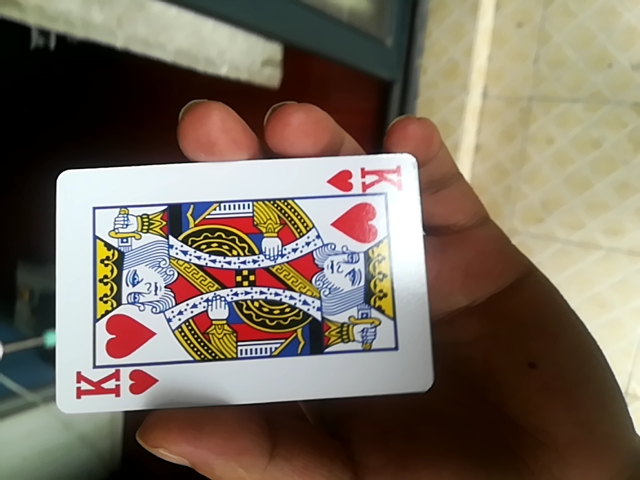hx k: (52, 155, 428, 416)
